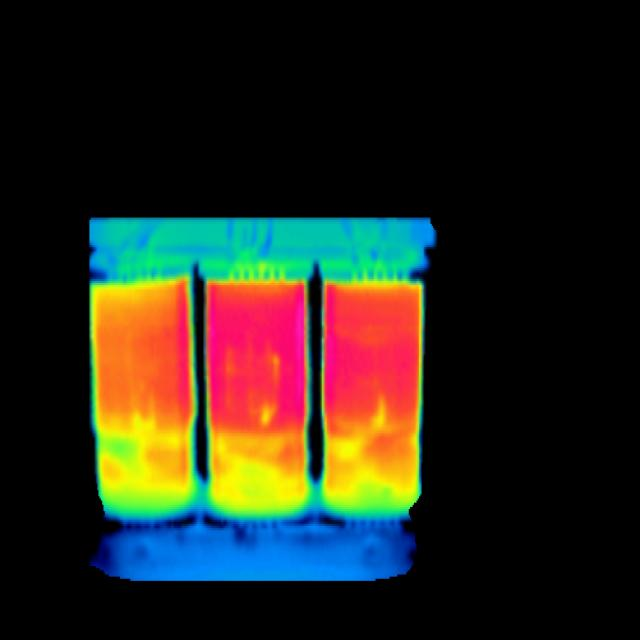Full Wire Overload PF: (90, 272, 423, 531)
